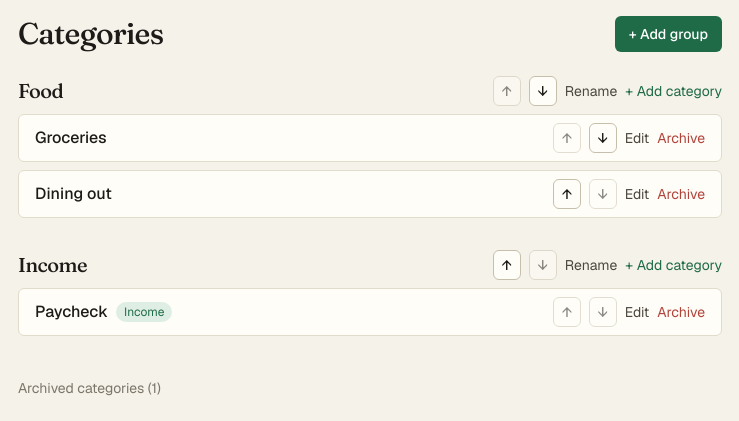
Test case: CategoriesPage › discards a stale group-reorder response when another mutation lands first
Expected: the element "Food" is shown, left=18, top=76, right=722, bottom=218
Note: Group reorder in flight (server snapshots groups named Food/Income)…
Click the button named "Move group Food down" at (543, 91), box left=529, top=76, right=557, bottom=106
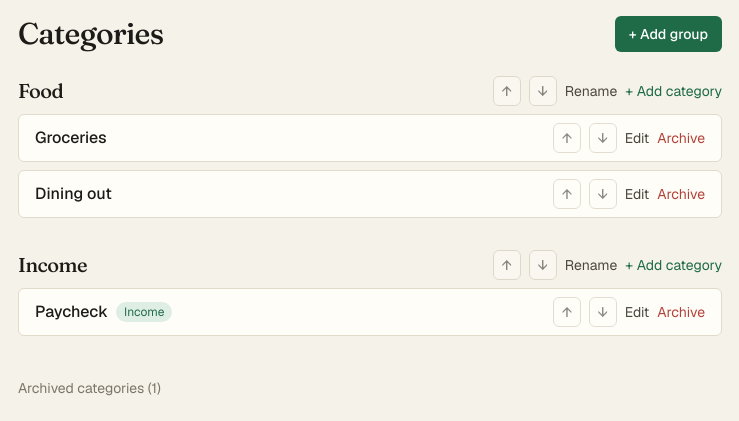
Click the button "Rename" in the row of "Food" at (591, 91), box left=565, top=81, right=617, bottom=101
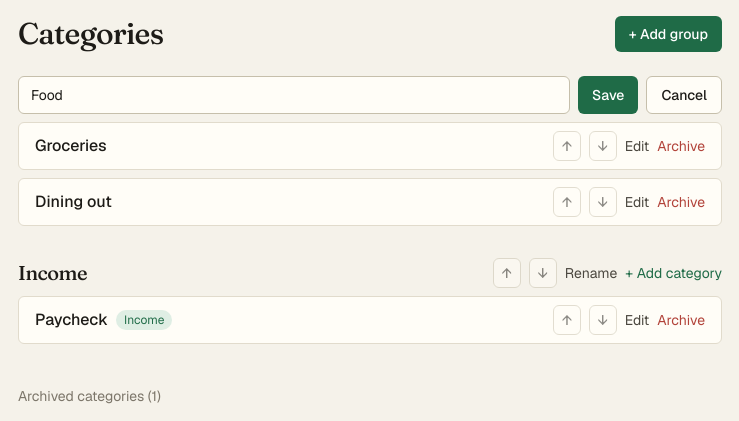
Replace the text in the field named "Group name" with "Home" at (294, 95), box left=18, top=76, right=570, bottom=114
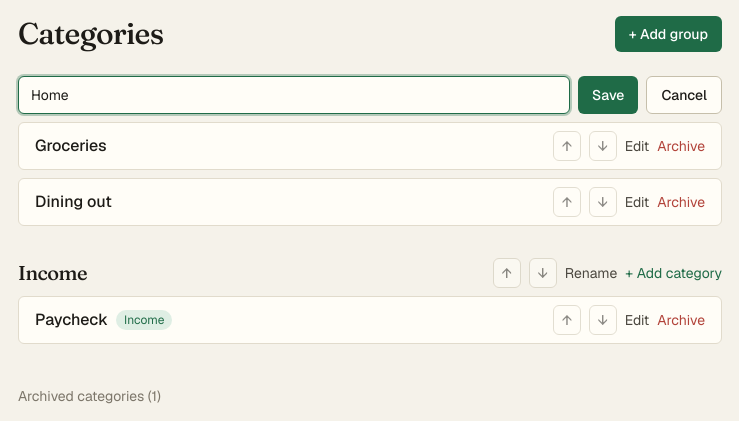
Click the button "Save" at (608, 95), box left=578, top=76, right=638, bottom=114
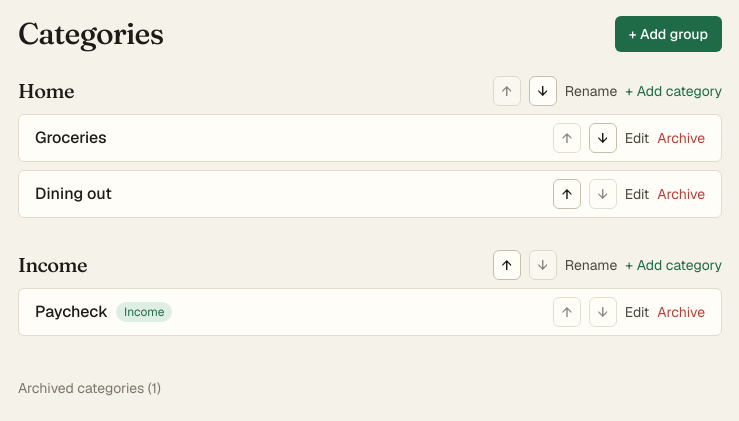
Expected: the field labelled "Food" is not shown
Now the button named "Move group Home down" is enabled, box left=529, top=76, right=557, bottom=106
Now the element "Home" is shown, box left=18, top=76, right=722, bottom=218
